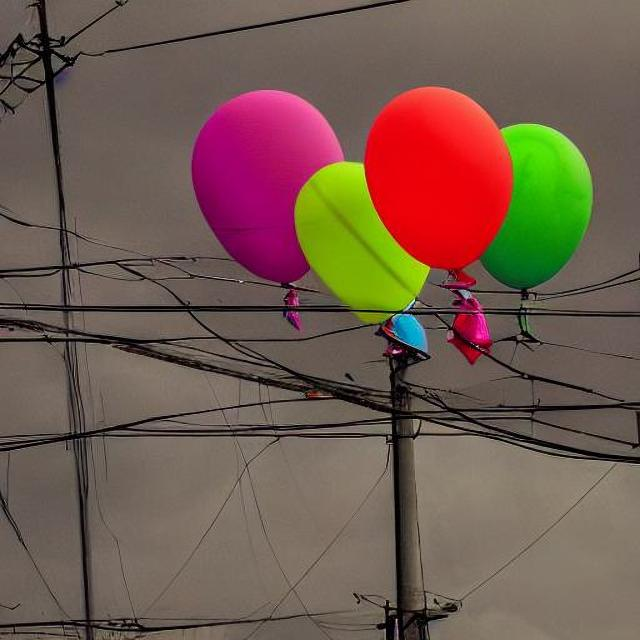balloon: (178, 86, 385, 306), (381, 110, 590, 316)
floating object: (282, 278, 302, 330)
